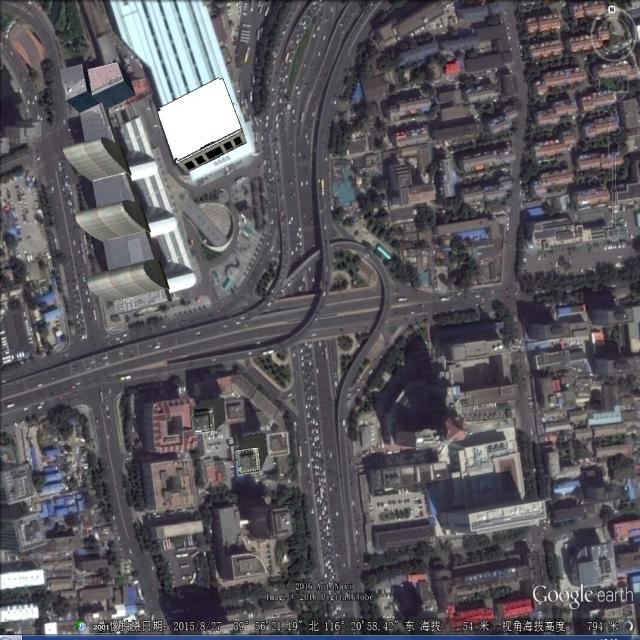overpass: (170, 152, 394, 424)
